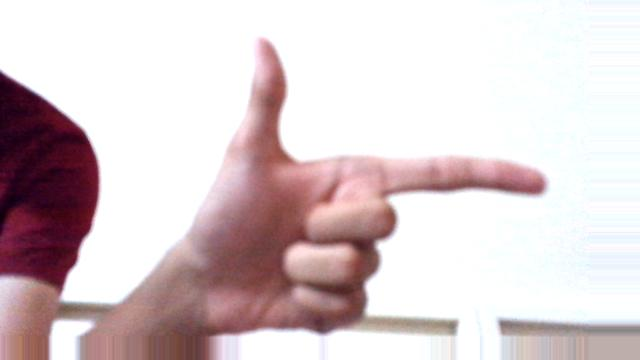Left: (193, 36, 551, 335)
